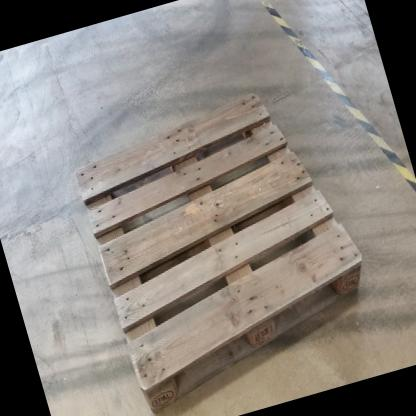BoxFace: (69, 86, 366, 416)
